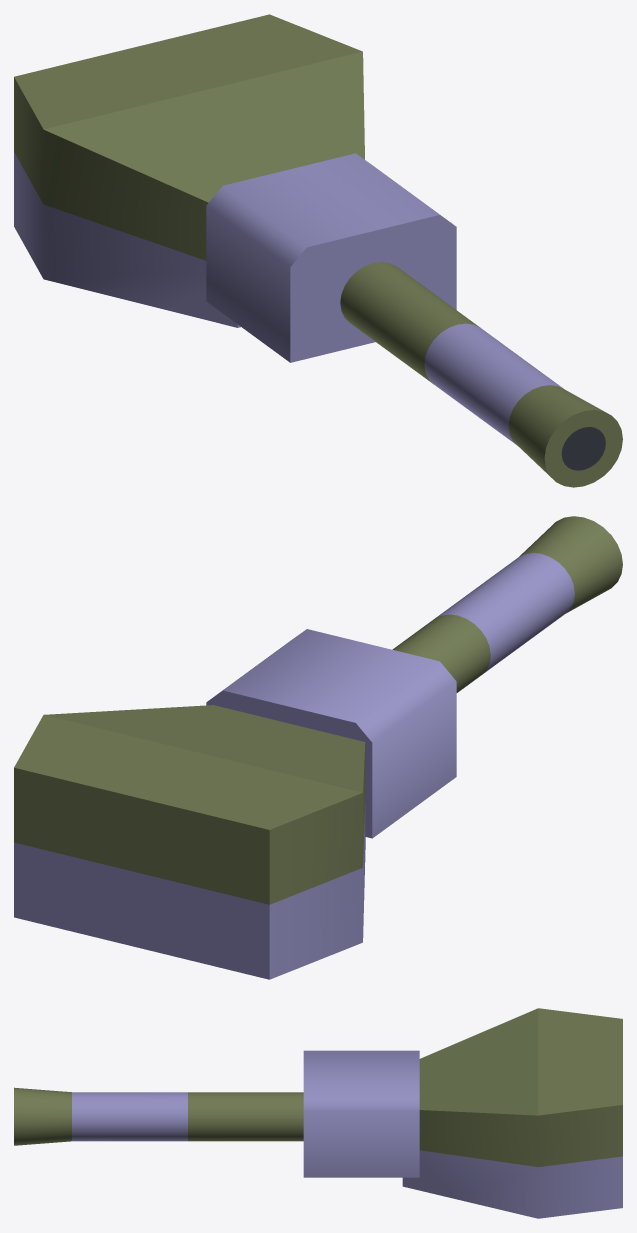
The model's file is Gun (Tank).fbx.
3 renders of one model, top to bottom at view 1: azimuth 30°, elevation 25°; view 2: azimuth 150°, elevation 25°; view 3: azimuth 270°, elevation 25°, orthographic. The views are drawn at different scales.
Visible parts, largest first — view 1: mergedBlocks; view 2: mergedBlocks; view 3: mergedBlocks.
Part boxes in pixels (<box>): mergedBlocks: <box>14,14,622,487</box>; mergedBlocks: <box>14,516,622,979</box>; mergedBlocks: <box>14,1008,622,1218</box>.
Bounding box in the file's own units: 15 × 6.72 × 35.94.
